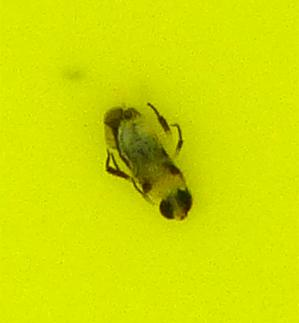Brachycera: (100, 100, 199, 223)
